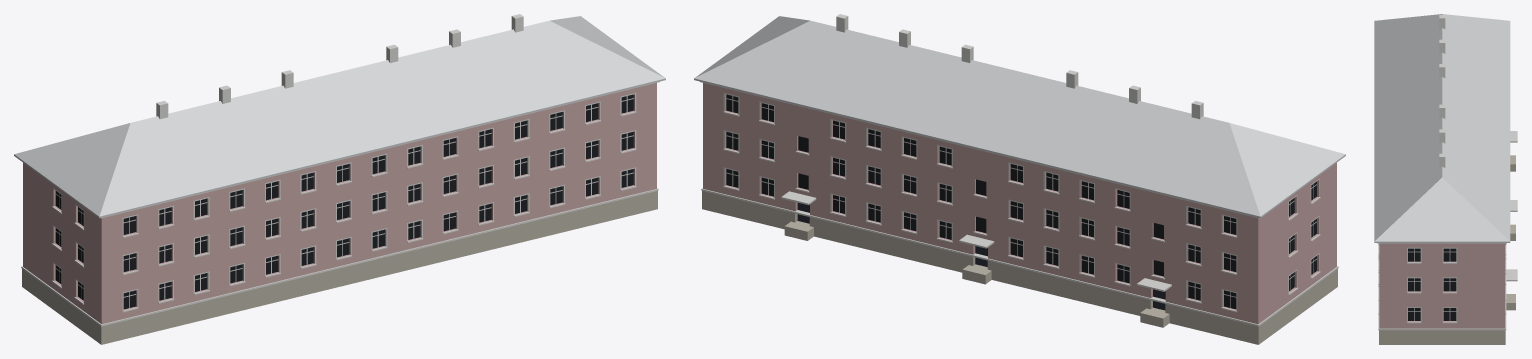
File: SM_Pozemskogo_8.glb
The picture shows the model from 3 angles, left to right: view 1: azimuth 30°, elevation 25°; view 2: azimuth 150°, elevation 25°; view 3: azimuth 270°, elevation 25°; orthographic projection. The views are drawn at different scales.
Visible parts, largest first — view 1: SM_Pozemskogo_8; view 2: SM_Pozemskogo_8; view 3: SM_Pozemskogo_8.
Boxes of the visible parts, x1,y1,x2,y2 form: SM_Pozemskogo_8: (14,14,665,344); SM_Pozemskogo_8: (694,14,1345,344); SM_Pozemskogo_8: (1374,14,1517,344).
Size of the model in its own units: 54.18 by 17.2 by 14.88.
